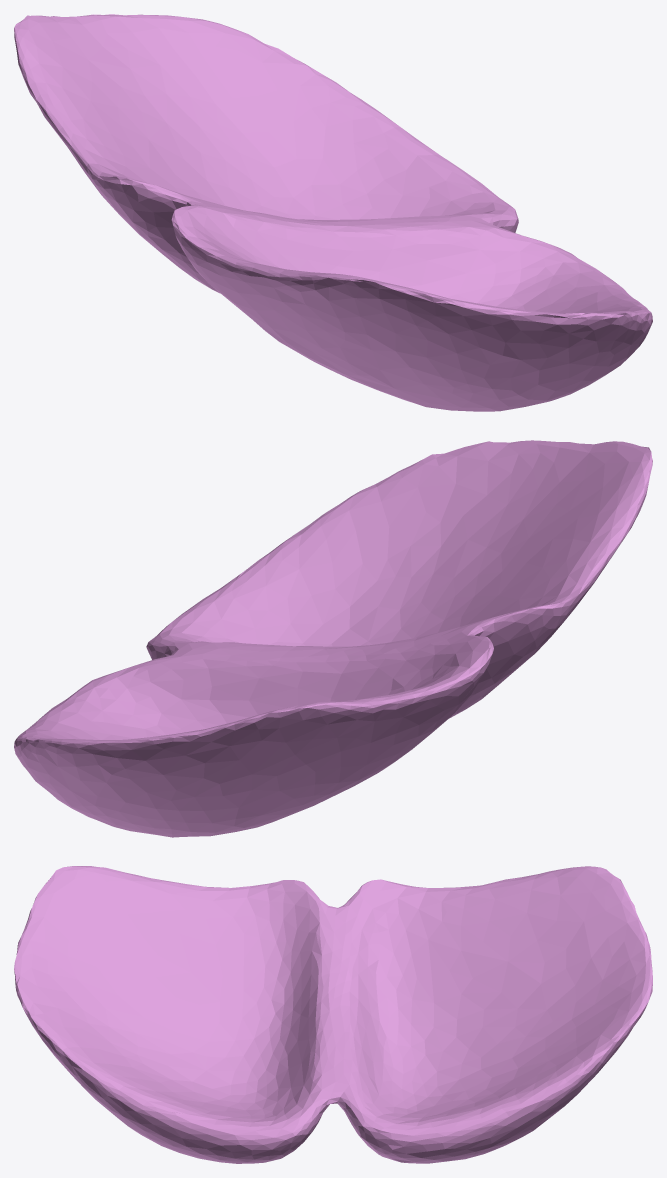
3 renders of one model, top to bottom at view 1: azimuth 30°, elevation 25°; view 2: azimuth 150°, elevation 25°; view 3: azimuth 270°, elevation 25°, orthographic. The views are drawn at different scales.
Parts seen in each view (by area): view 1: 842.obj; view 2: 842.obj; view 3: 842.obj.
Boxes of the visible parts, x1,y1,x2,y2 form: 842.obj: (14, 14, 652, 411); 842.obj: (14, 440, 652, 837); 842.obj: (14, 866, 652, 1163).
Bounding box in the file's own units: 1849 × 1068 × 3206.
